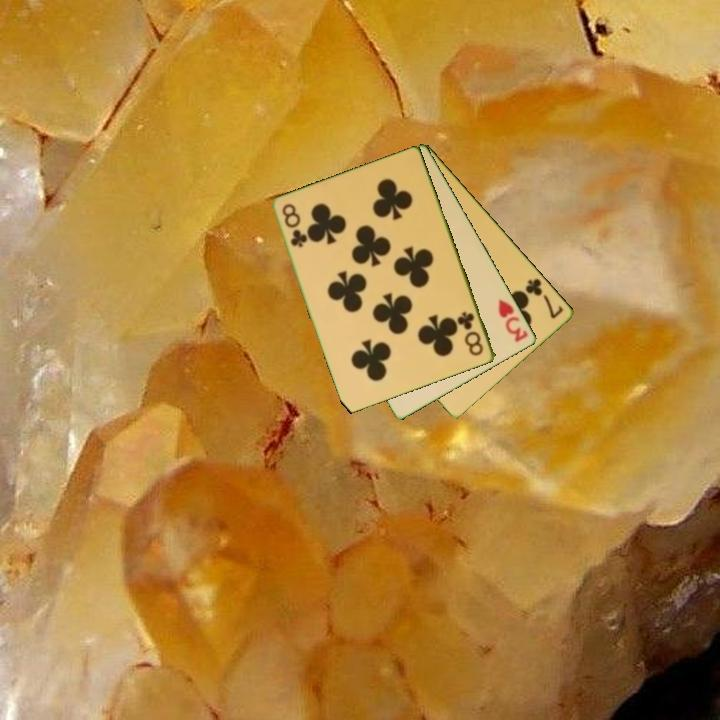3h: (495, 295, 531, 345)
7c: (522, 275, 567, 321)
8c: (454, 308, 487, 359), (279, 200, 310, 251)
